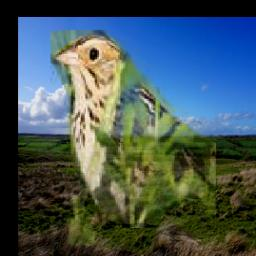Sparrow: (50, 31, 216, 247)
